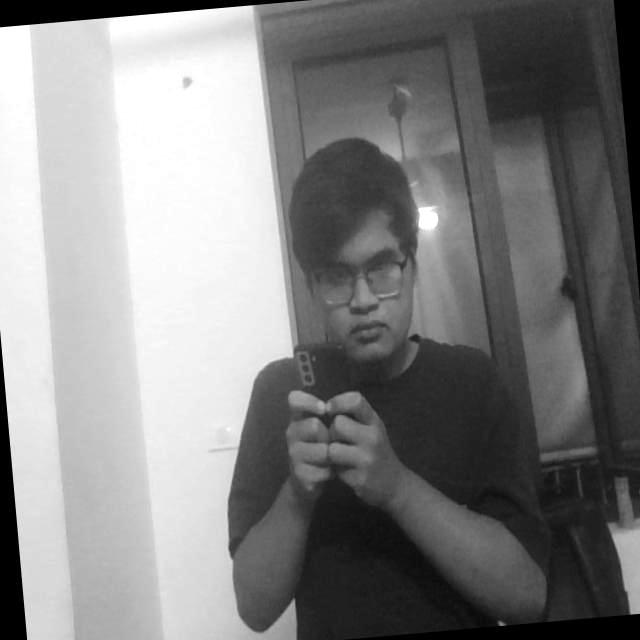phone: (283, 333, 371, 453)
